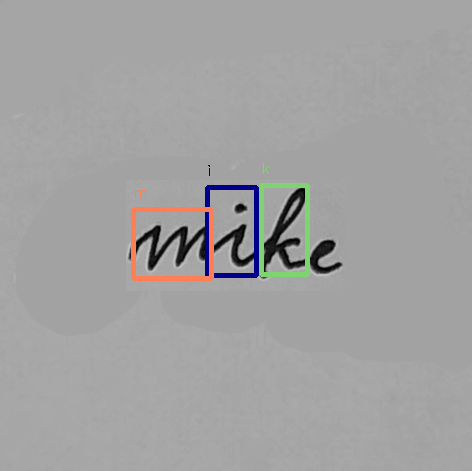e: (310, 236, 345, 276)
i: (225, 199, 251, 269)
k: (255, 185, 309, 281)
m: (141, 219, 214, 273)
